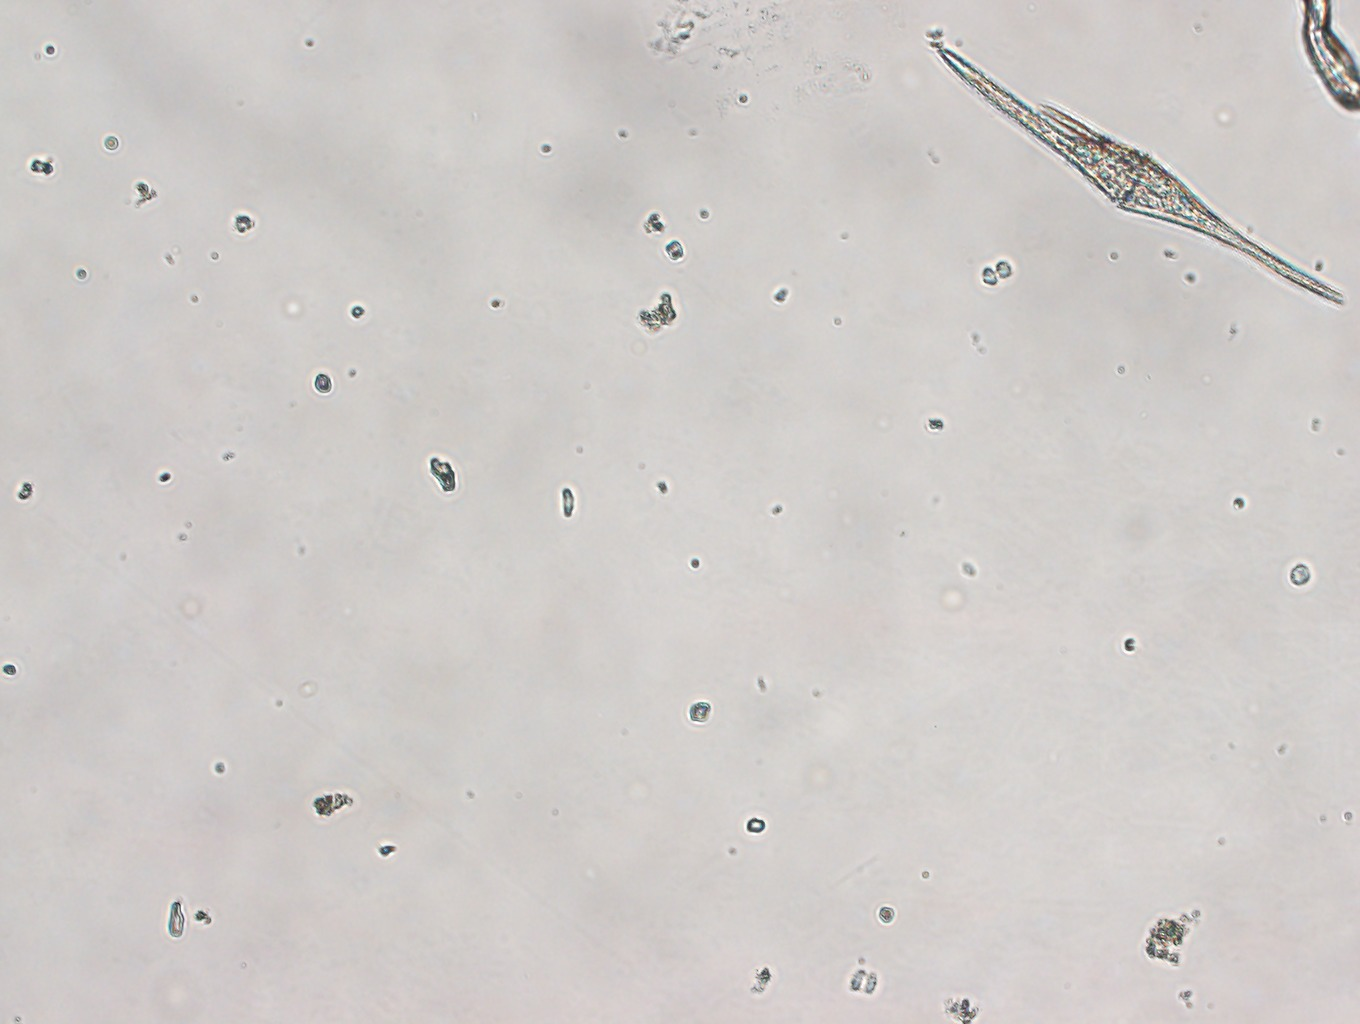ceratium furca: (927, 44, 1346, 314)
